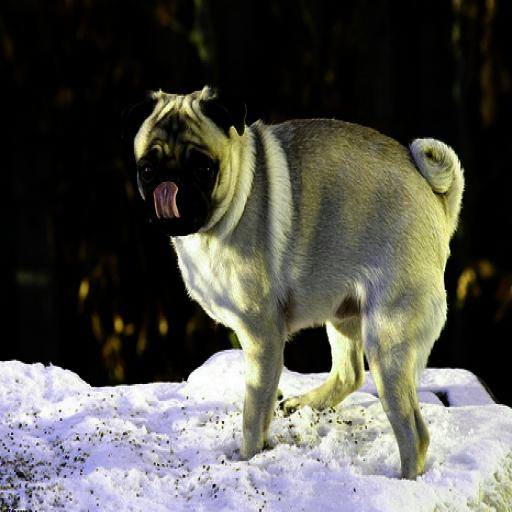dog_face: (121, 78, 243, 229)
